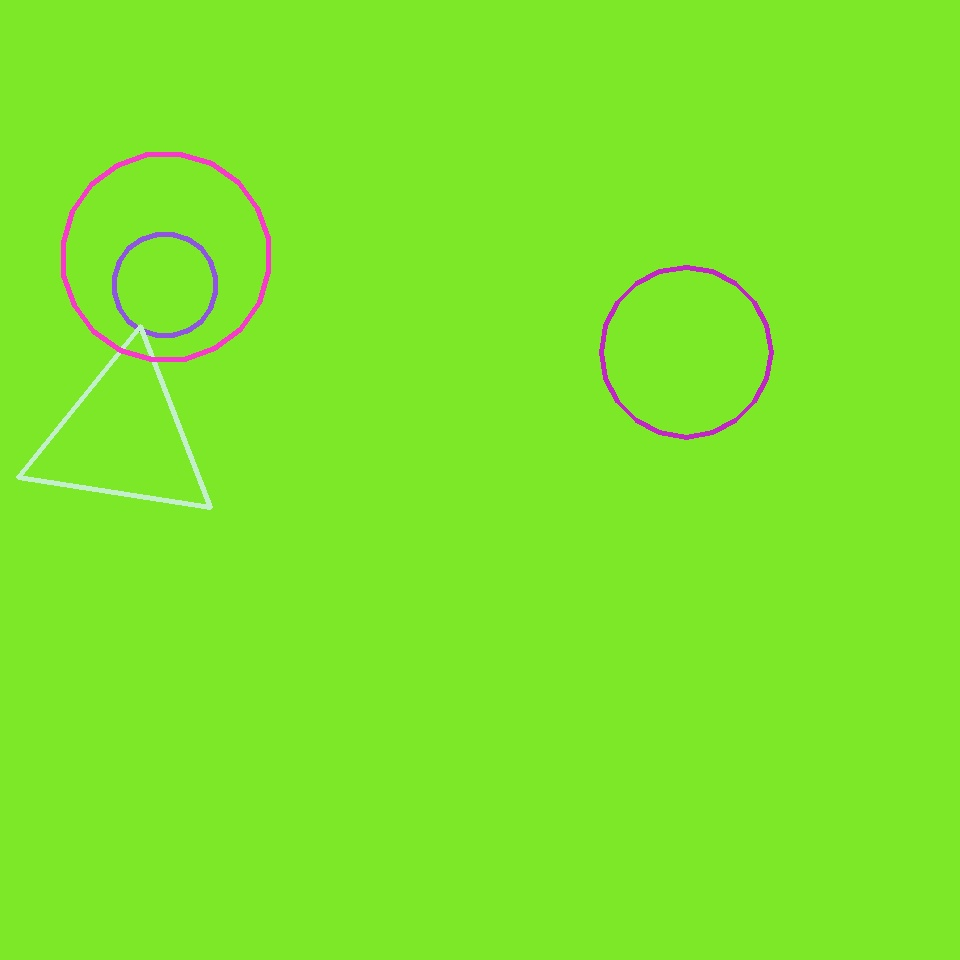circle: (27, 346, 219, 528)
triangle: (64, 154, 268, 360), (601, 267, 771, 437), (114, 234, 216, 336)
